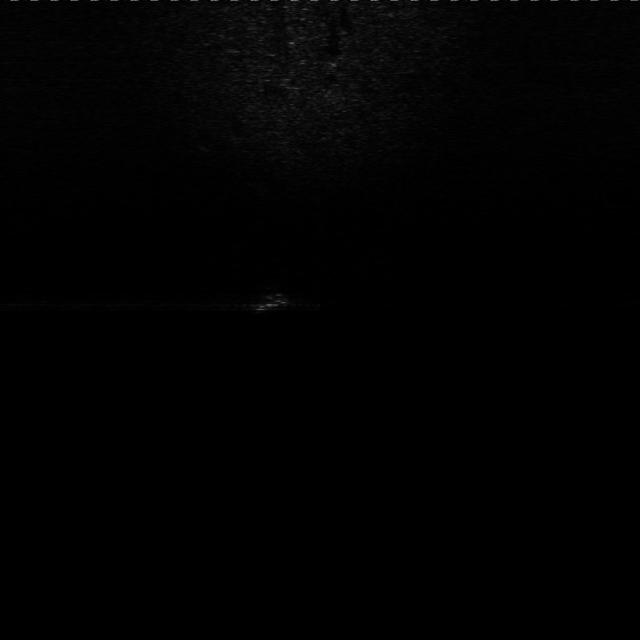human body: (228, 290, 300, 316)
